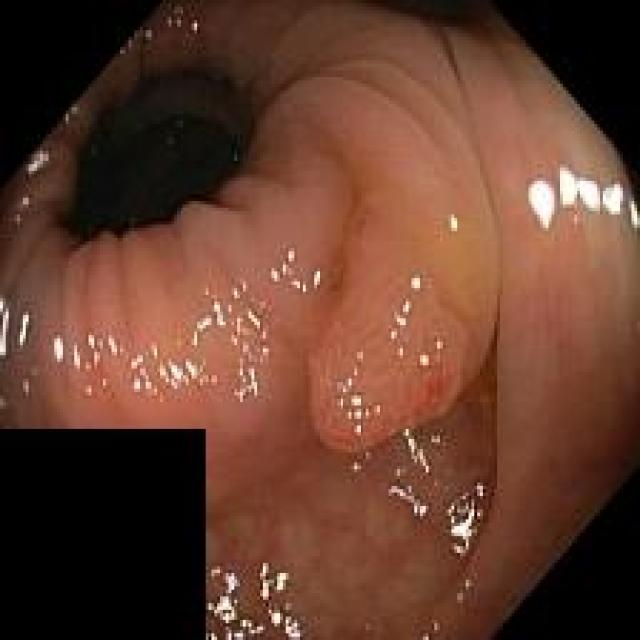Polyps: (309, 202, 498, 452)
